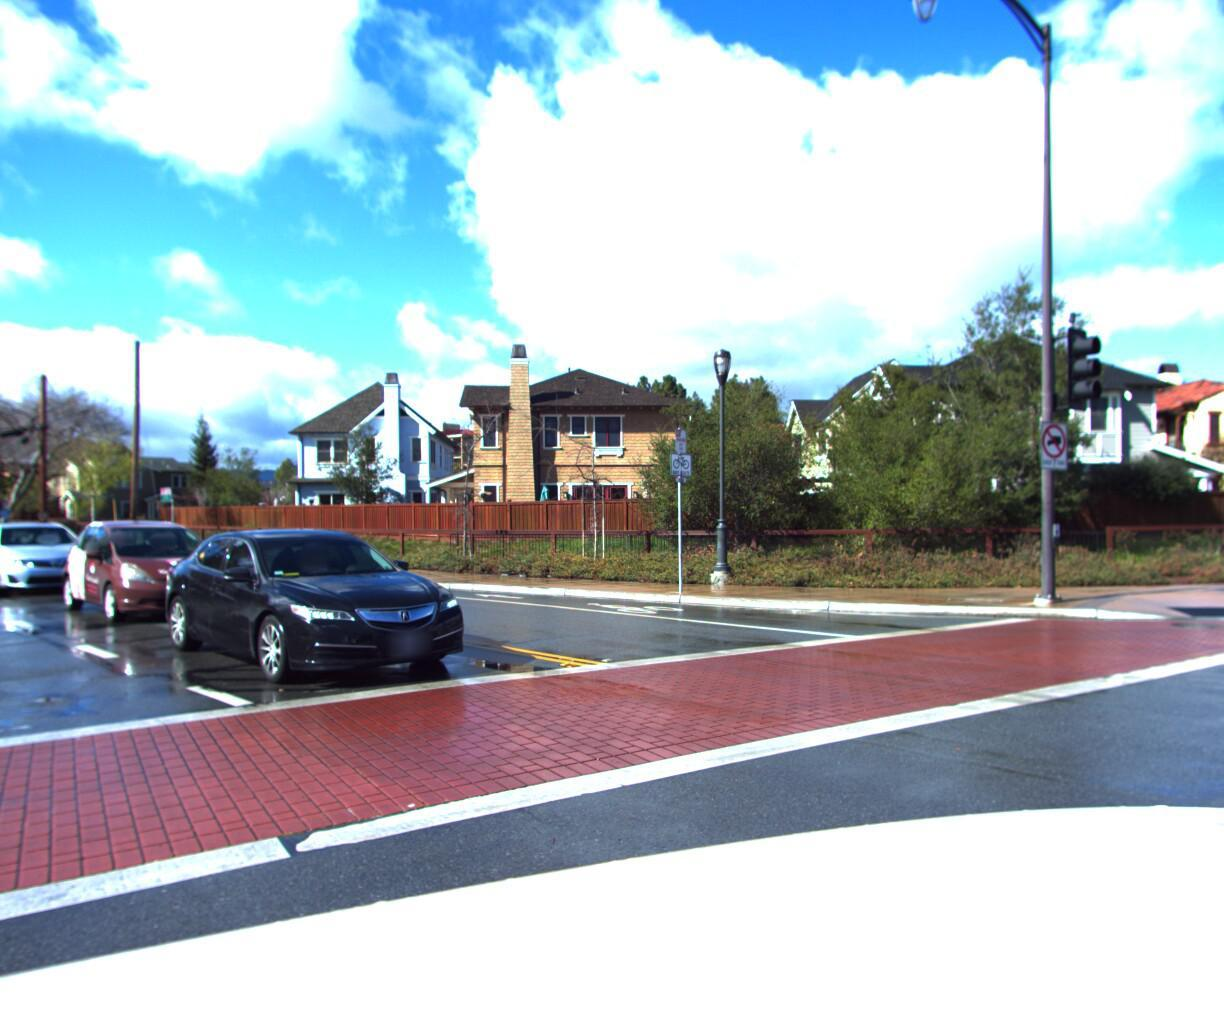bicycle: (0, 519, 2, 652)
car: (137, 523, 503, 708), (49, 511, 257, 633), (0, 515, 112, 601), (0, 516, 29, 582)
